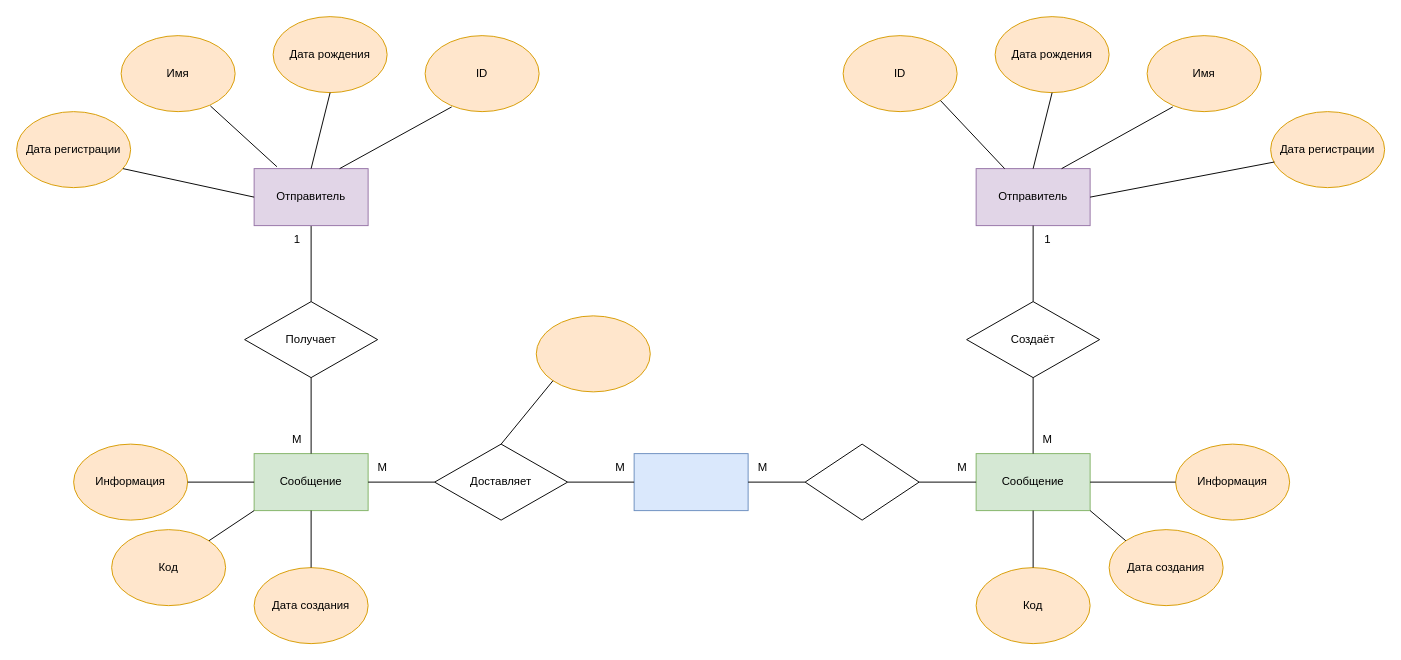
This 1401x660 diagram has some shape labels left out. The shapes that lost their labels are listed below. From the top down, each one's centre as x and y in pixels, then its label:
At (x=592, y=353): "Дата отправления сообщения".
At (x=690, y=482): "Сервер".
At (x=861, y=481): "Обрабатывает".
